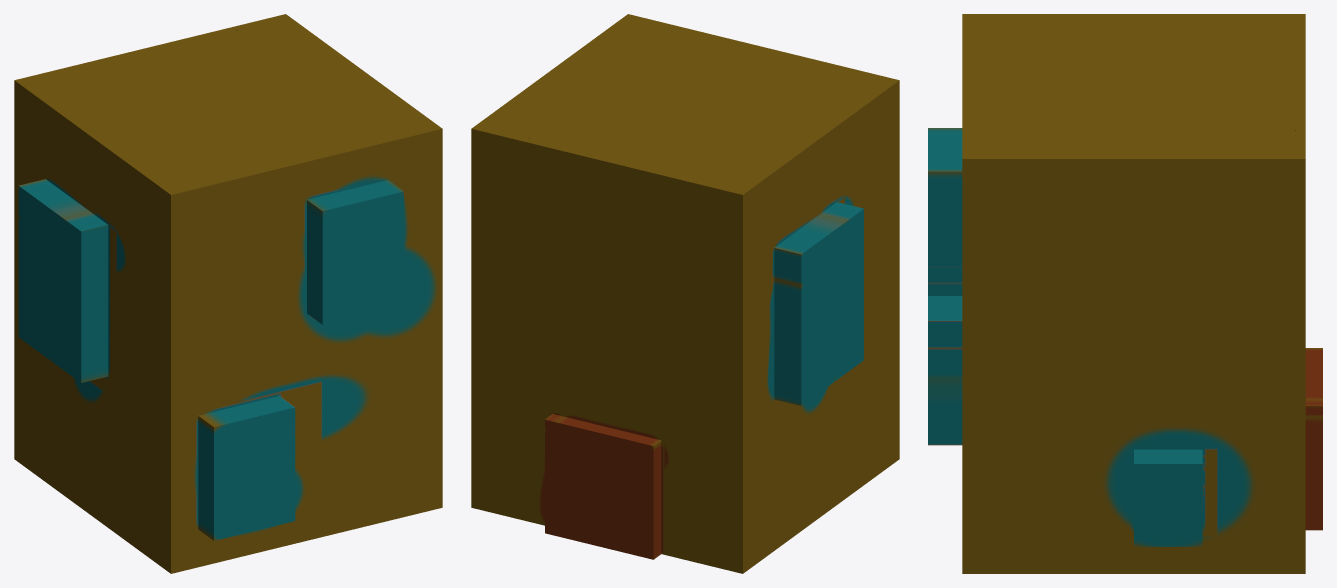
Rendered from building4.glb.
3 views of the same model, side by side, from view 1: azimuth 30°, elevation 25°; view 2: azimuth 150°, elevation 25°; view 3: azimuth 270°, elevation 25° (orthographic). The views are drawn at different scales.
Visible parts, largest first — view 1: Cube; view 2: Cube; view 3: Cube.
Boxes of the visible parts, box(x1,y1,x2,y2) form: Cube: box(14, 14, 442, 573); Cube: box(471, 14, 899, 573); Cube: box(928, 14, 1322, 573).
Bounding box in the file's own units: 36 × 40 × 34.5.
Materials: 1 (1 with a texture image).
